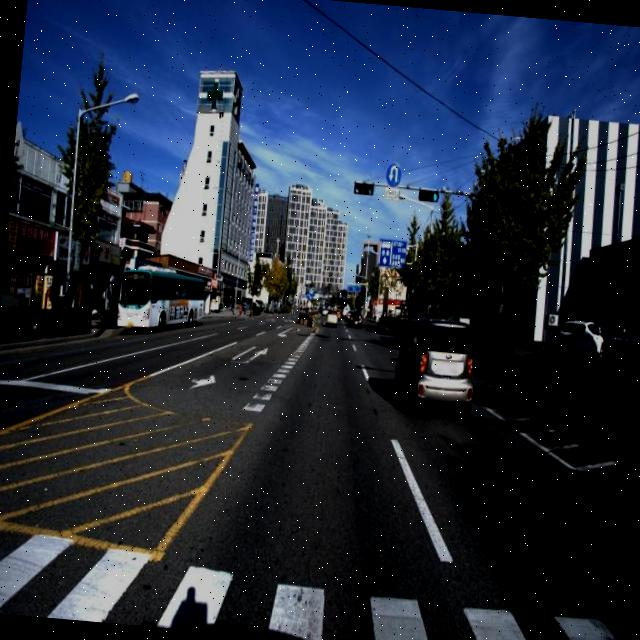crosswalk: (0, 525, 612, 640)
